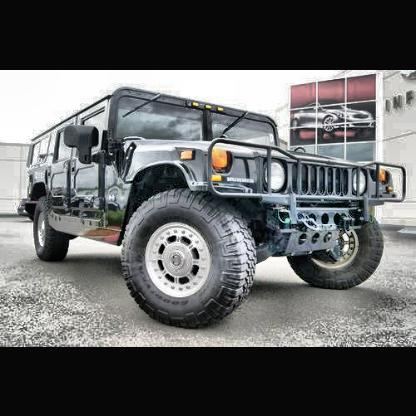AM General Hummer SUV 2000: (19, 85, 410, 332)
